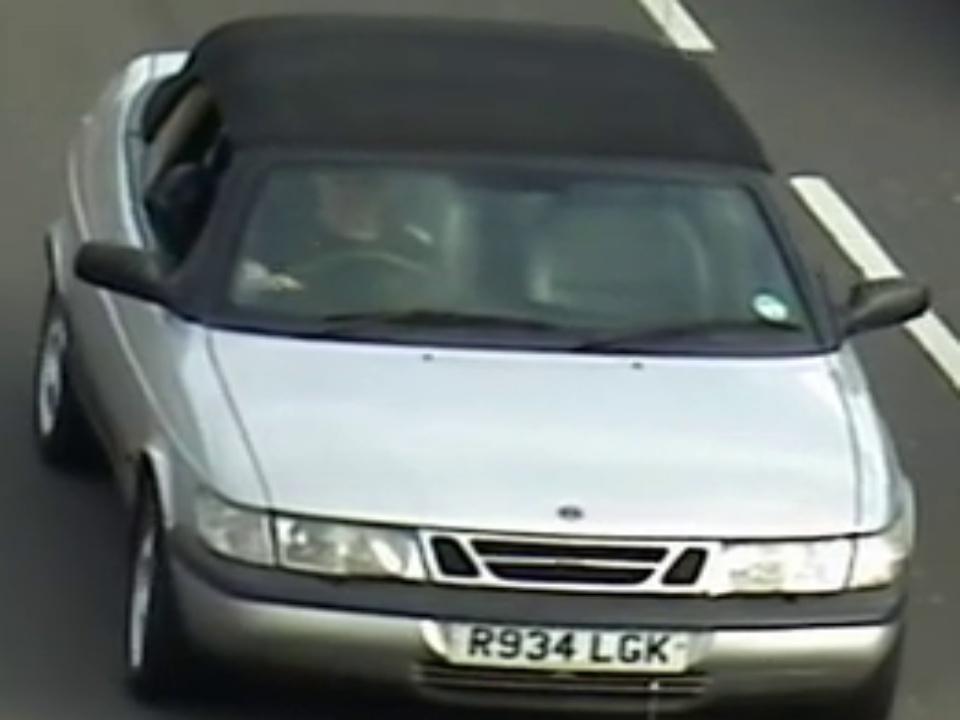ONE: (220, 138, 816, 345)
